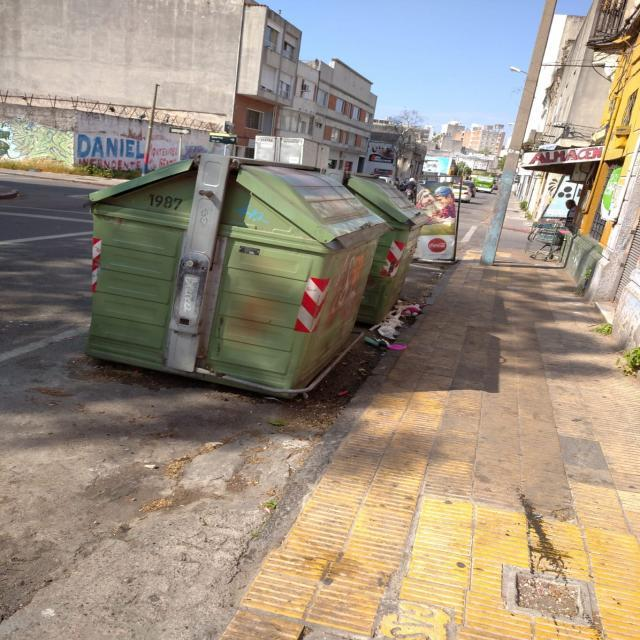garbage: (413, 172, 475, 300), (352, 286, 430, 374)
